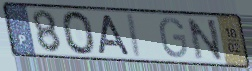8: (31, 8, 63, 56)
A: (97, 13, 133, 57)
G: (158, 16, 190, 60)
I: (126, 11, 144, 60)
N: (185, 17, 225, 63)
O: (59, 9, 98, 56)
